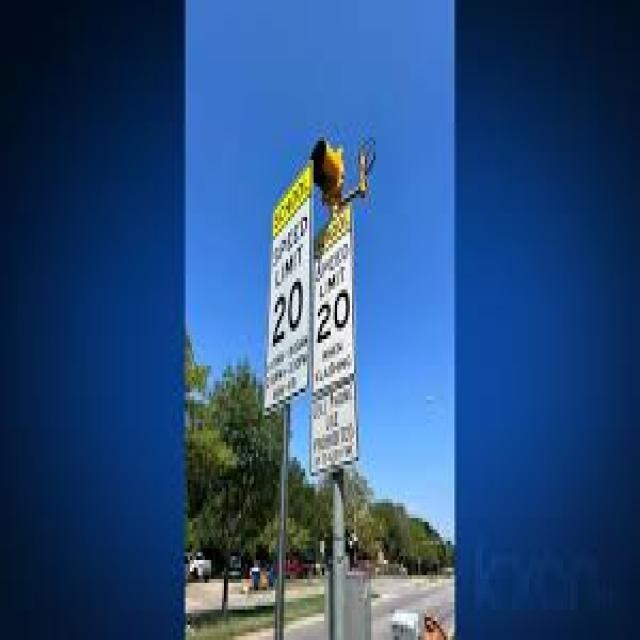speedLimit20: (264, 210, 308, 335), (308, 238, 358, 345)
